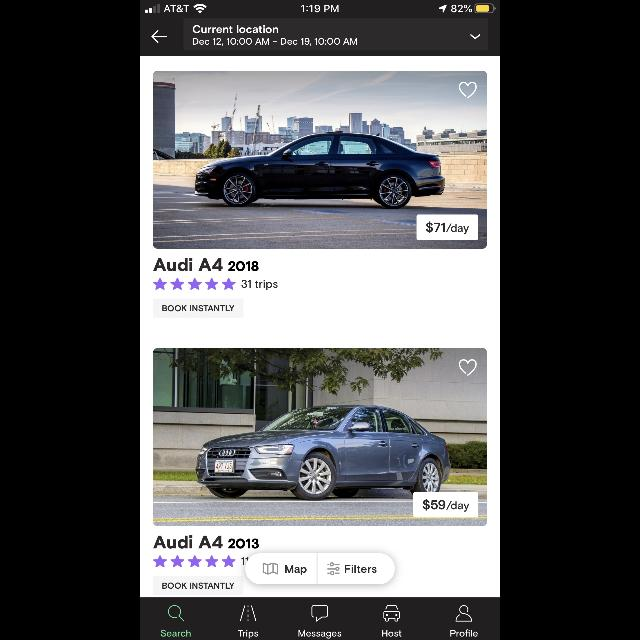icon: (154, 278, 236, 290), (154, 555, 236, 567), (459, 359, 477, 376), (459, 82, 477, 98), (168, 604, 184, 622), (312, 604, 328, 622), (456, 604, 472, 622), (151, 31, 167, 44), (470, 34, 480, 40)
image: (154, 71, 486, 249), (154, 348, 486, 526), (384, 604, 401, 622), (240, 605, 256, 621)
text: (154, 258, 258, 272), (193, 38, 357, 46), (153, 536, 259, 548), (193, 25, 279, 33), (422, 498, 470, 512), (426, 222, 469, 234), (242, 280, 278, 290), (298, 630, 342, 638), (450, 629, 478, 637), (161, 630, 191, 636), (238, 630, 258, 638), (382, 630, 402, 636)
textbutton: (319, 554, 395, 584), (246, 554, 316, 584), (153, 298, 243, 318), (153, 576, 243, 596)
uppertaskbar: (140, 0, 500, 14)
